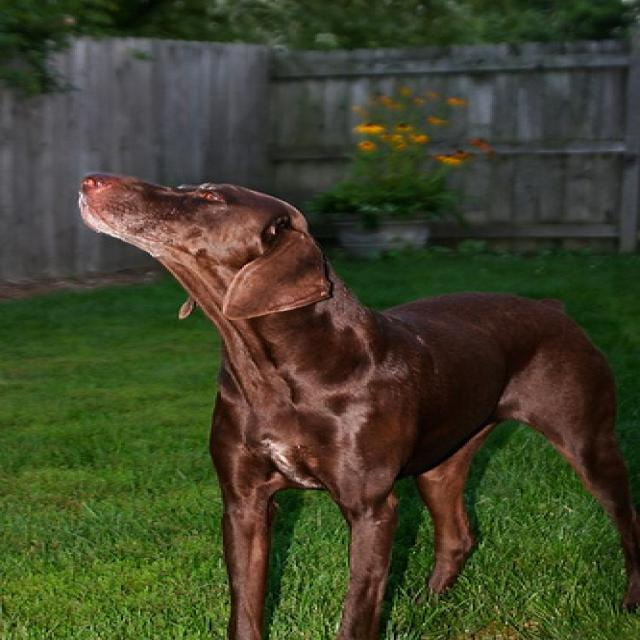dog: (77, 173, 330, 317)
